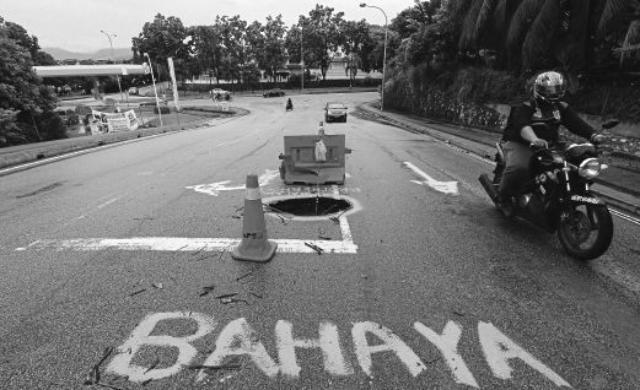Pothole: (269, 192, 353, 222)
